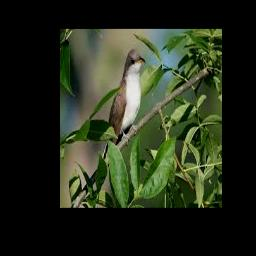Cuckoo: (100, 49, 146, 166)
